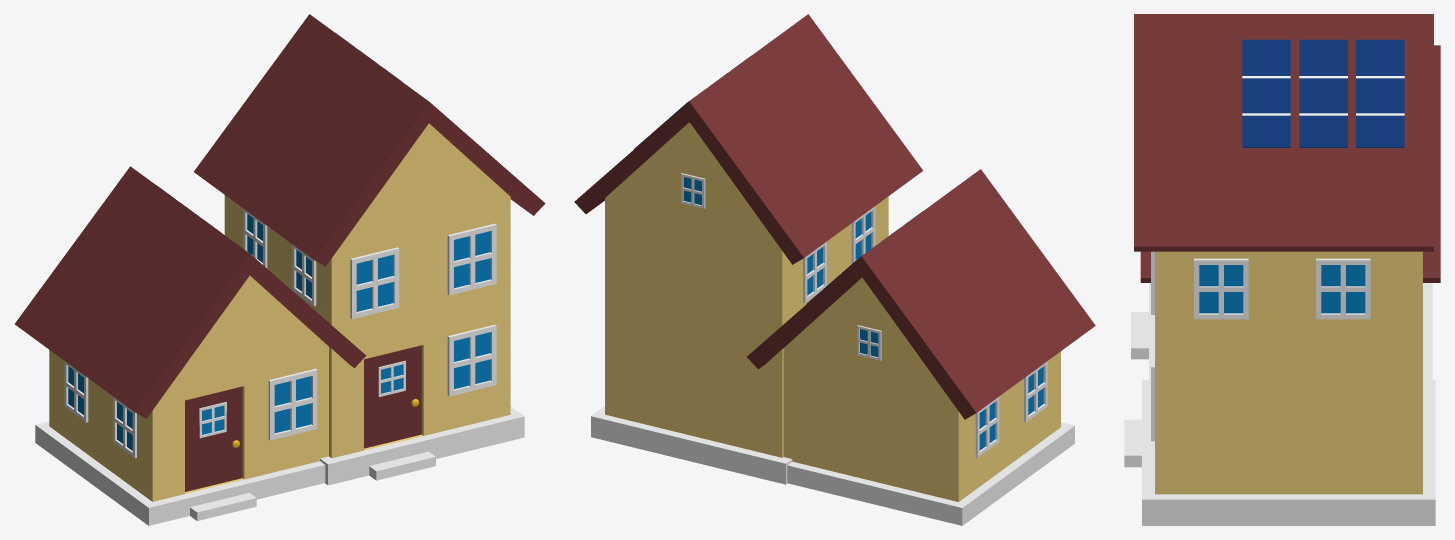
File: houses.glb
The picture shows the model from 3 angles, left to right: view 1: azimuth 30°, elevation 25°; view 2: azimuth 150°, elevation 25°; view 3: azimuth 270°, elevation 25°; orthographic projection. The views are drawn at different scales.
Parts seen in each view (by area): view 1: Cube.474; view 2: Cube.474; view 3: Cube.474.
Boxes of the visible parts, <box> form: Cube.474: <box>14,14,545,525</box>; Cube.474: <box>574,14,1095,525</box>; Cube.474: <box>1124,14,1440,525</box>.
Bounding box in the file's own units: 2.22 × 1.89 × 1.19.
Materials: 1 (1 with a texture image).
